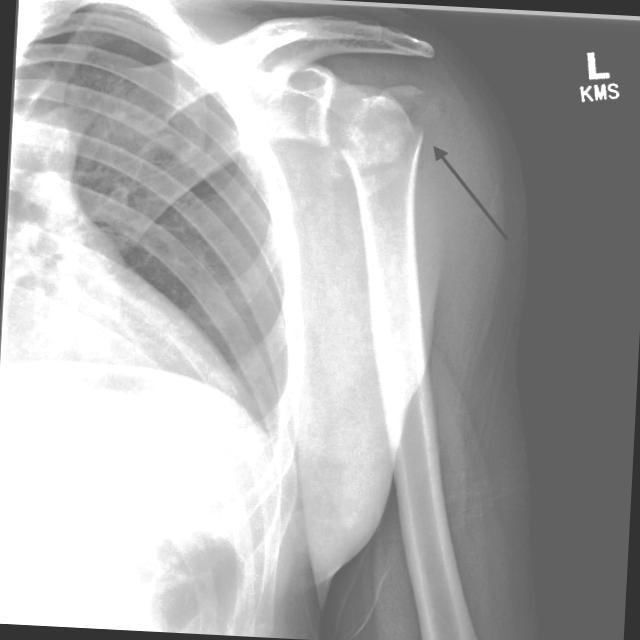Fracture Dislocation: (382, 78, 449, 148)
